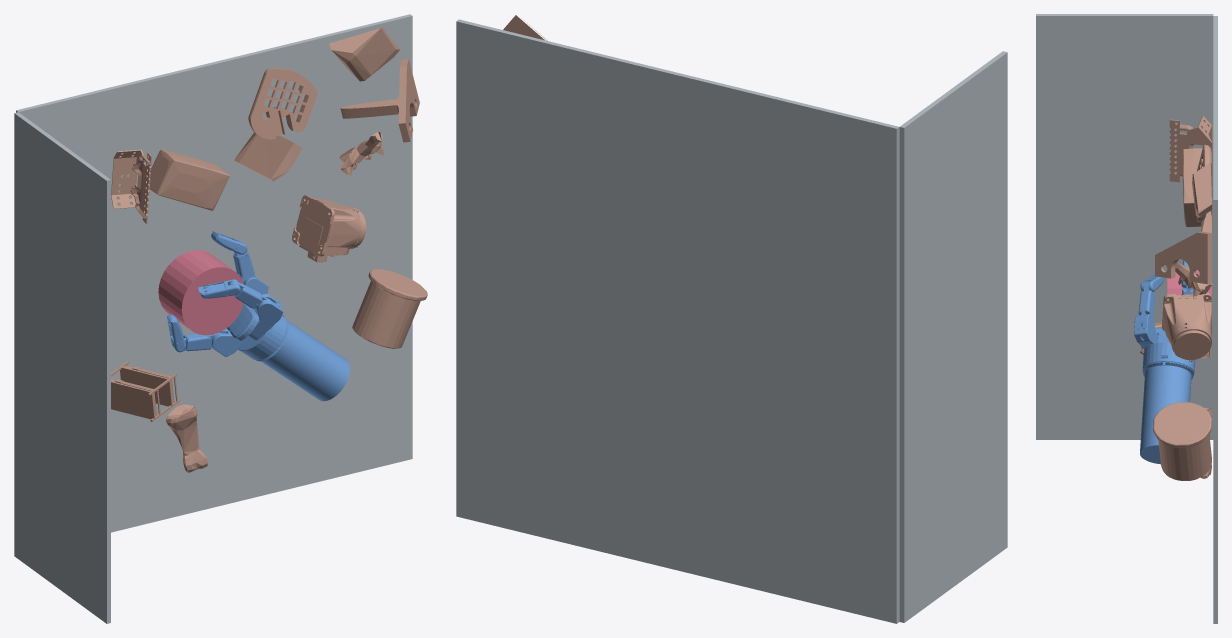
3 views of the same model, side by side, from view 1: azimuth 30°, elevation 25°; view 2: azimuth 150°, elevation 25°; view 3: azimuth 270°, elevation 25° (orthographic). The views are drawn at different scales.
Parts seen in each view (by area): view 1: environment, hand, world, obstacle_010, obstacle_003, obstacle_000, obstacle_002, obstacle_009, obstacle_001, obstacle_006, obstacle_008, obstacle_007 (+2 smaller); view 2: environment; view 3: environment, hand, obstacle_010, obstacle_003, obstacle_008, obstacle_001, obstacle_000, obstacle_006, obstacle_005, world, obstacle_002.
Boxes of the visible parts, x1,y1,x2,y2 form: environment: (14, 14, 412, 623); hand: (167, 231, 349, 401); world: (158, 250, 243, 335); obstacle_010: (352, 269, 427, 348); obstacle_003: (292, 195, 366, 262); obstacle_000: (149, 149, 229, 210); obstacle_002: (248, 68, 317, 139); obstacle_009: (111, 361, 179, 421); obstacle_001: (111, 149, 151, 223); obstacle_006: (329, 26, 399, 81); obstacle_008: (340, 58, 419, 142); obstacle_007: (234, 132, 302, 181); environment: (456, 19, 1007, 623); environment: (1036, 14, 1217, 623); hand: (1134, 260, 1195, 464); obstacle_010: (1153, 402, 1211, 480); obstacle_003: (1162, 292, 1211, 361); obstacle_008: (1155, 231, 1211, 284); obstacle_001: (1169, 115, 1212, 182); obstacle_000: (1182, 148, 1212, 227); obstacle_006: (1192, 162, 1211, 217); obstacle_005: (1175, 262, 1212, 297); world: (1167, 269, 1211, 334); obstacle_002: (1194, 144, 1212, 221).
Bounding box in the file's own units: 0.7611 × 0.8272 × 0.3109.
